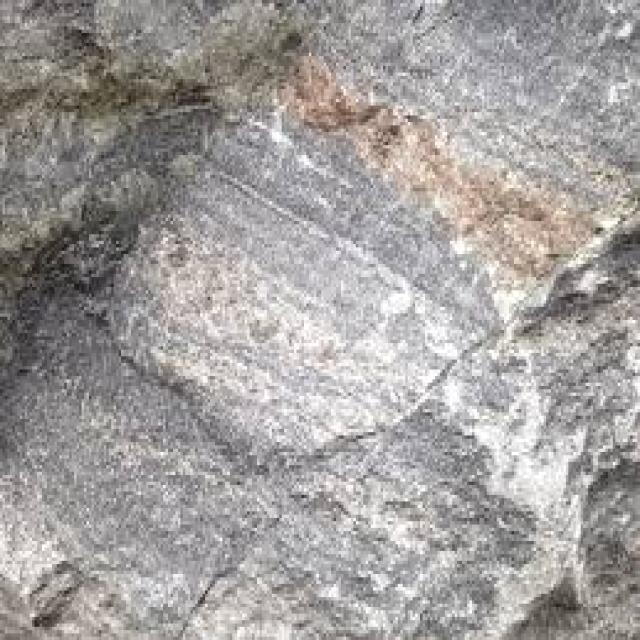Metamorphic: (3, 7, 635, 630)
